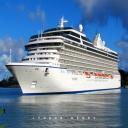cruises: (5, 16, 123, 98)
